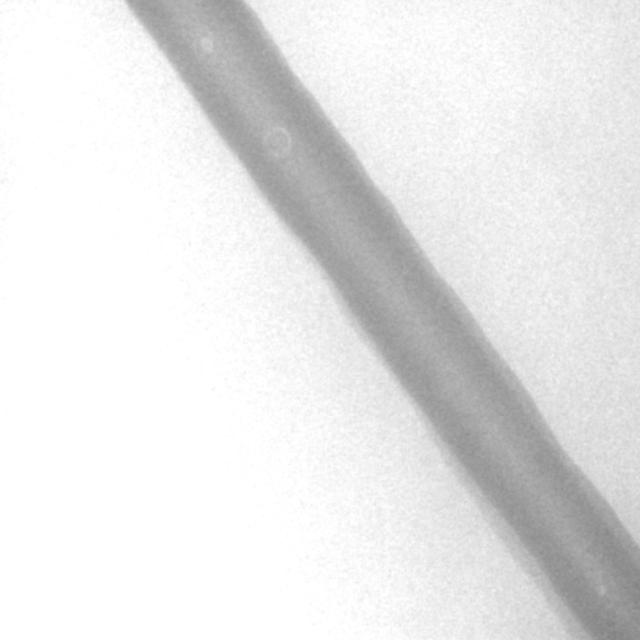air hole: (260, 125, 293, 161), (594, 581, 606, 597)
